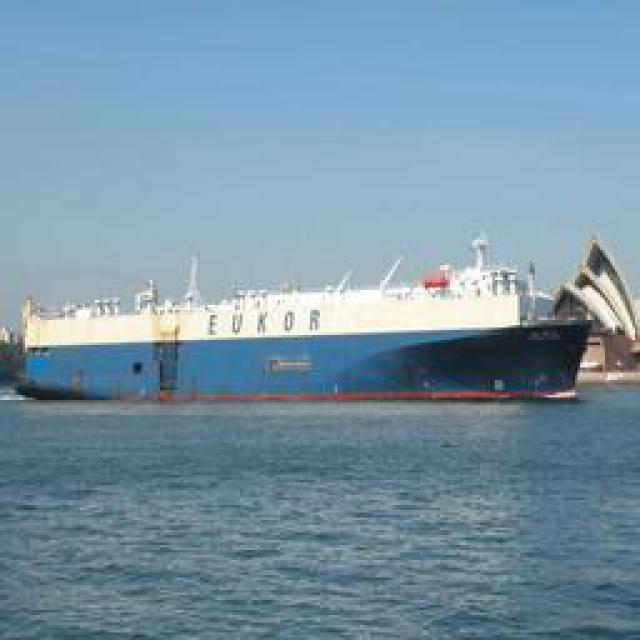Ship: (20, 232, 585, 405)
